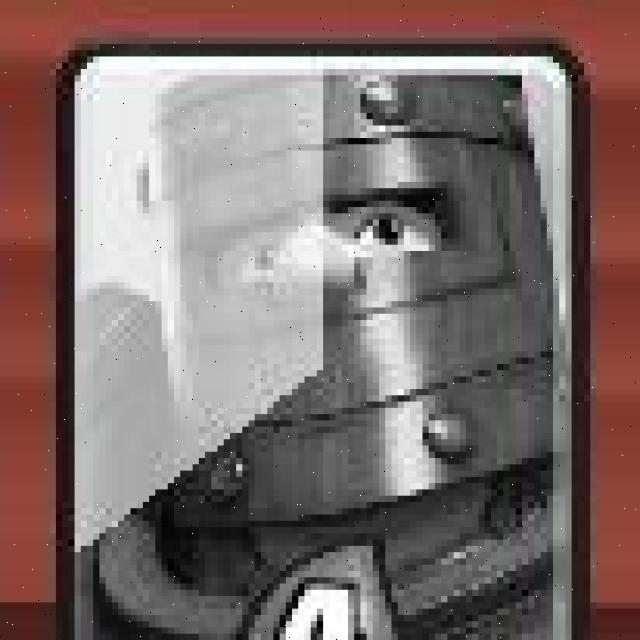Dark_Prince: (53, 38, 591, 640)
